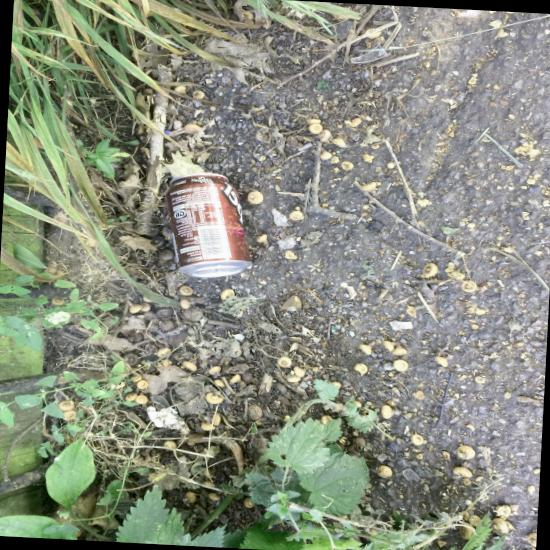Broken glass: (350, 44, 388, 63), (403, 469, 421, 481), (318, 80, 331, 93)
Cigarette: (297, 143, 313, 152)
Drink can: (165, 172, 252, 278)
Unlabeled litter: (146, 407, 191, 434), (389, 321, 413, 330)
